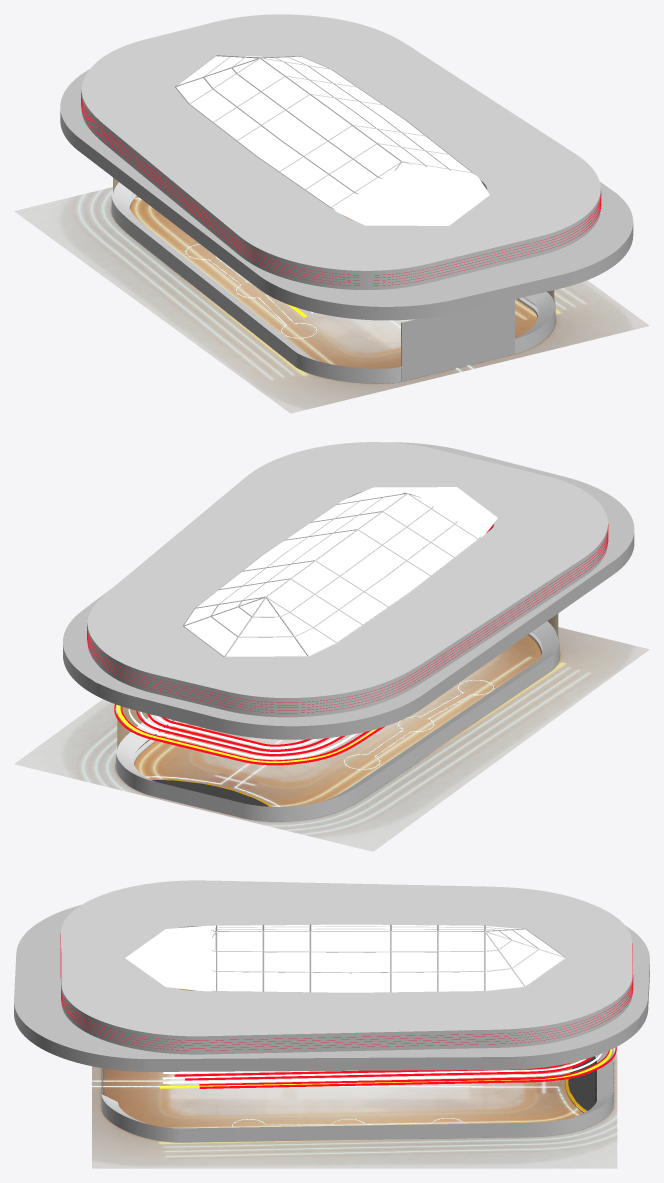
File: Int-static-v1.gltf
The picture shows the model from 3 angles, top to bottom: view 1: azimuth 30°, elevation 25°; view 2: azimuth 150°, elevation 25°; view 3: azimuth 270°, elevation 25°; orthographic projection. The views are drawn at different scales.
Visible parts, largest first — view 1: Rectangle047, Floor1, Domeglass, Rectangle064, Wall-loft1, main entrance, Rectangle054; view 2: Rectangle047, Floor1, Domeglass, Rectangle064, Wall-loft1, Rectangle054, Rectangle053, Arc001, Rectangle065, Rectangle058, Wall1; view 3: Rectangle047, Floor1, Domeglass, Rectangle064, Wall-loft1, Rectangle053, Rectangle054, Rectangle058, Arc001, Rectangle057, Rectangle065, Line062 (+1 smaller).
Boxes of the visible parts, x1=… form: Rectangle047: x1=81, y1=14, x2=600, y2=289; Floor1: x1=14, y1=187, x2=649, y2=413; Domeglass: x1=176, y1=56, x2=489, y2=225; Rectangle064: x1=60, y1=69, x2=633, y2=320; Wall-loft1: x1=111, y1=182, x2=555, y2=383; main entrance: x1=401, y1=299, x2=514, y2=381; Rectangle054: x1=175, y1=55, x2=474, y2=209; Rectangle047: x1=87, y1=442, x2=607, y2=717; Floor1: x1=14, y1=627, x2=649, y2=851; Domeglass: x1=184, y1=487, x2=497, y2=656; Rectangle064: x1=63, y1=442, x2=634, y2=739; Wall-loft1: x1=116, y1=621, x2=559, y2=821; Rectangle054: x1=183, y1=492, x2=480, y2=657; Rectangle053: x1=114, y1=704, x2=384, y2=765; Arc001: x1=150, y1=779, x2=271, y2=806; Rectangle065: x1=116, y1=705, x2=376, y2=762; Rectangle058: x1=128, y1=708, x2=357, y2=759; Wall1: x1=117, y1=613, x2=558, y2=748; Rectangle047: x1=61, y1=880, x2=632, y2=1054; Floor1: x1=92, y1=1047, x2=617, y2=1168; Domeglass: x1=125, y1=924, x2=564, y2=992; Rectangle064: x1=14, y1=905, x2=649, y2=1071; Wall-loft1: x1=101, y1=1049, x2=613, y2=1142; Rectangle053: x1=174, y1=1047, x2=616, y2=1088; Rectangle054: x1=210, y1=924, x2=566, y2=993; Rectangle058: x1=163, y1=1053, x2=602, y2=1083; Arc001: x1=565, y1=1056, x2=595, y2=1112; Rectangle057: x1=162, y1=1059, x2=585, y2=1079; Rectangle065: x1=159, y1=1049, x2=612, y2=1088; Line062: x1=92, y1=1065, x2=578, y2=1115.
Bounding box in the file's own units: 25.38 × 11.01 × 40.99.
Materials: 13 (3 with a texture image).
